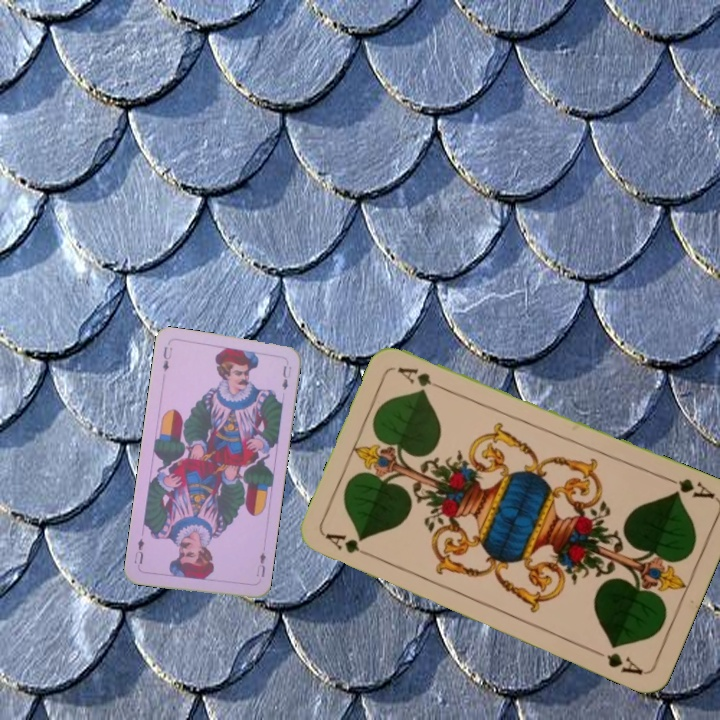EU: (158, 342, 175, 374), (252, 548, 268, 580)
GA: (322, 529, 378, 561), (661, 473, 717, 502)
